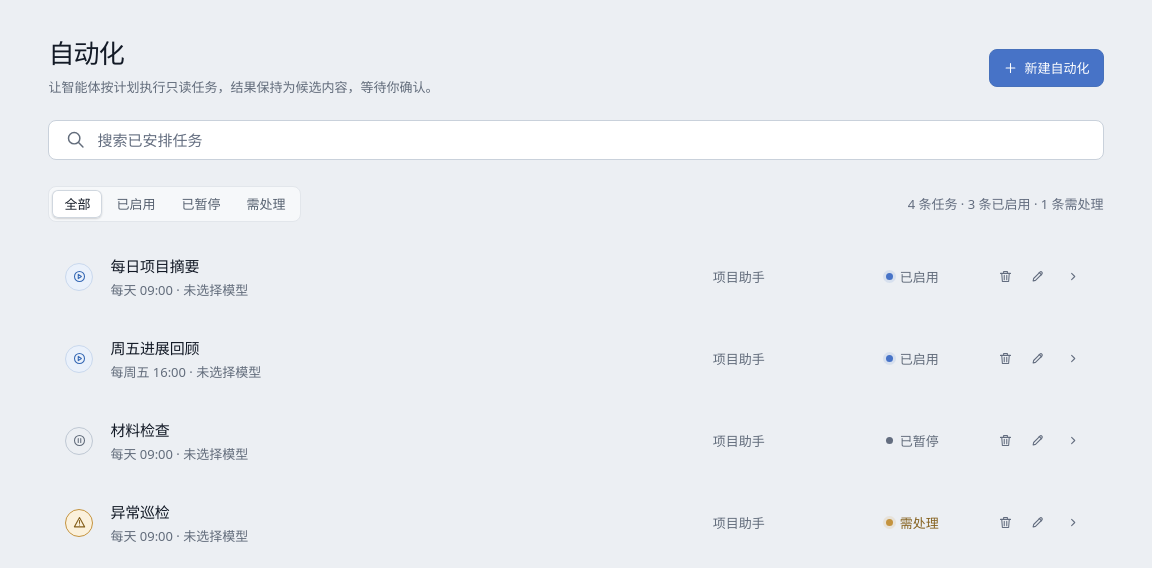
Scenario: 已安排任务页面 › 删除成功后忽略迟到的旧快照，任务不会重新出现
The image size is (1152, 568).
Expected: the text "每日项目摘要" is shown, [110,256,199,276]
Click the button named "删除每日项目摘要" at (1006, 277), box [990,261,1022,293]
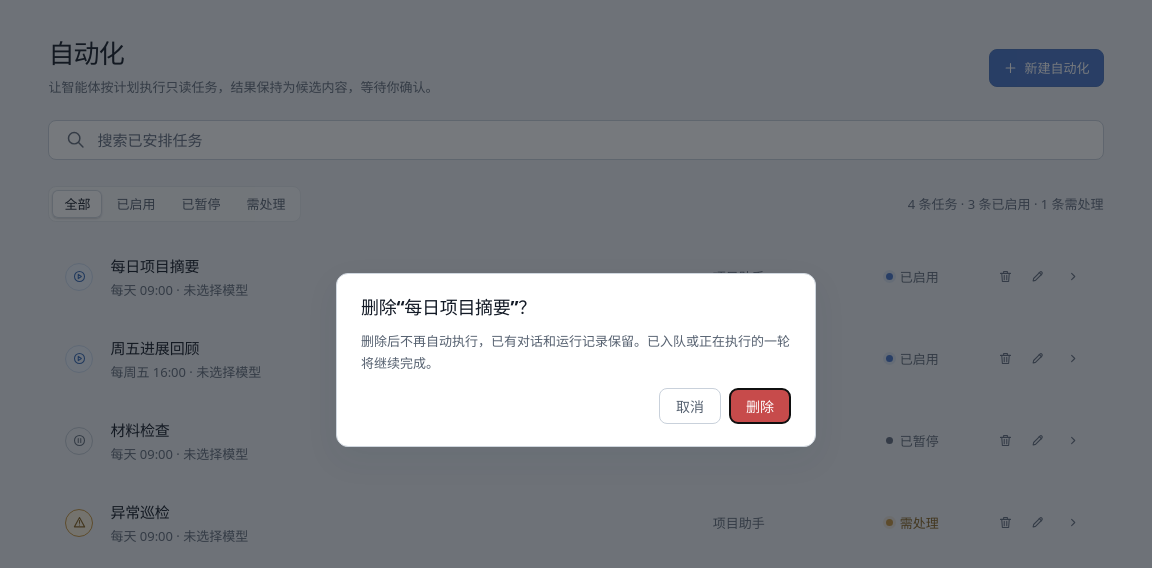
Click the button "删除" at (760, 406), box [729,388,791,424]
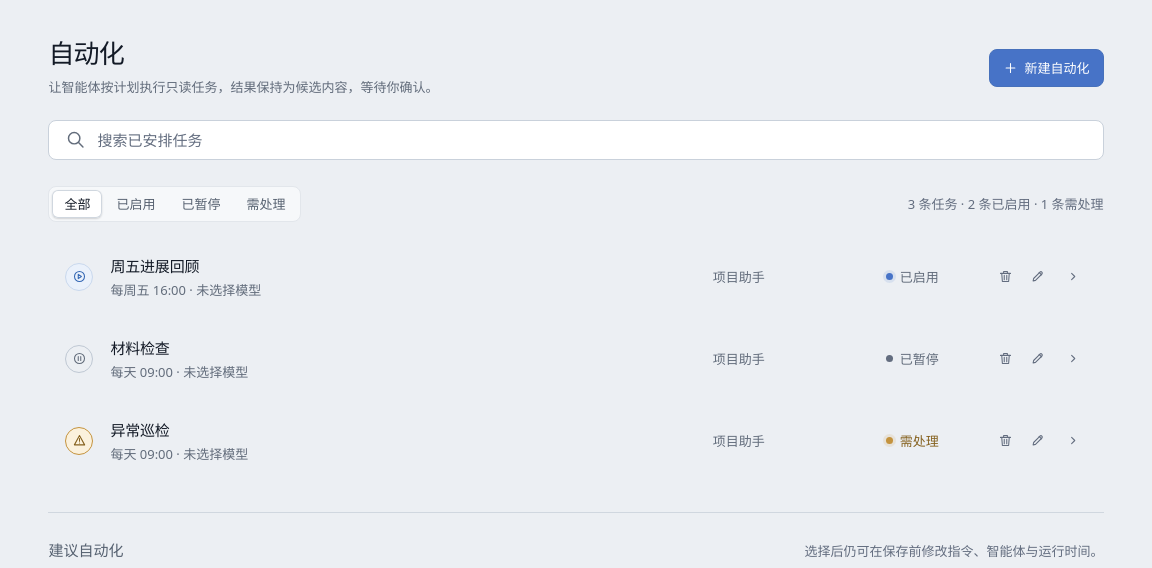
Now the button "每日项目摘要" is gone
Now the text "3 条任务 · 2 条已启用 · 1 条需处理" is shown, box [908,194,1104,214]
